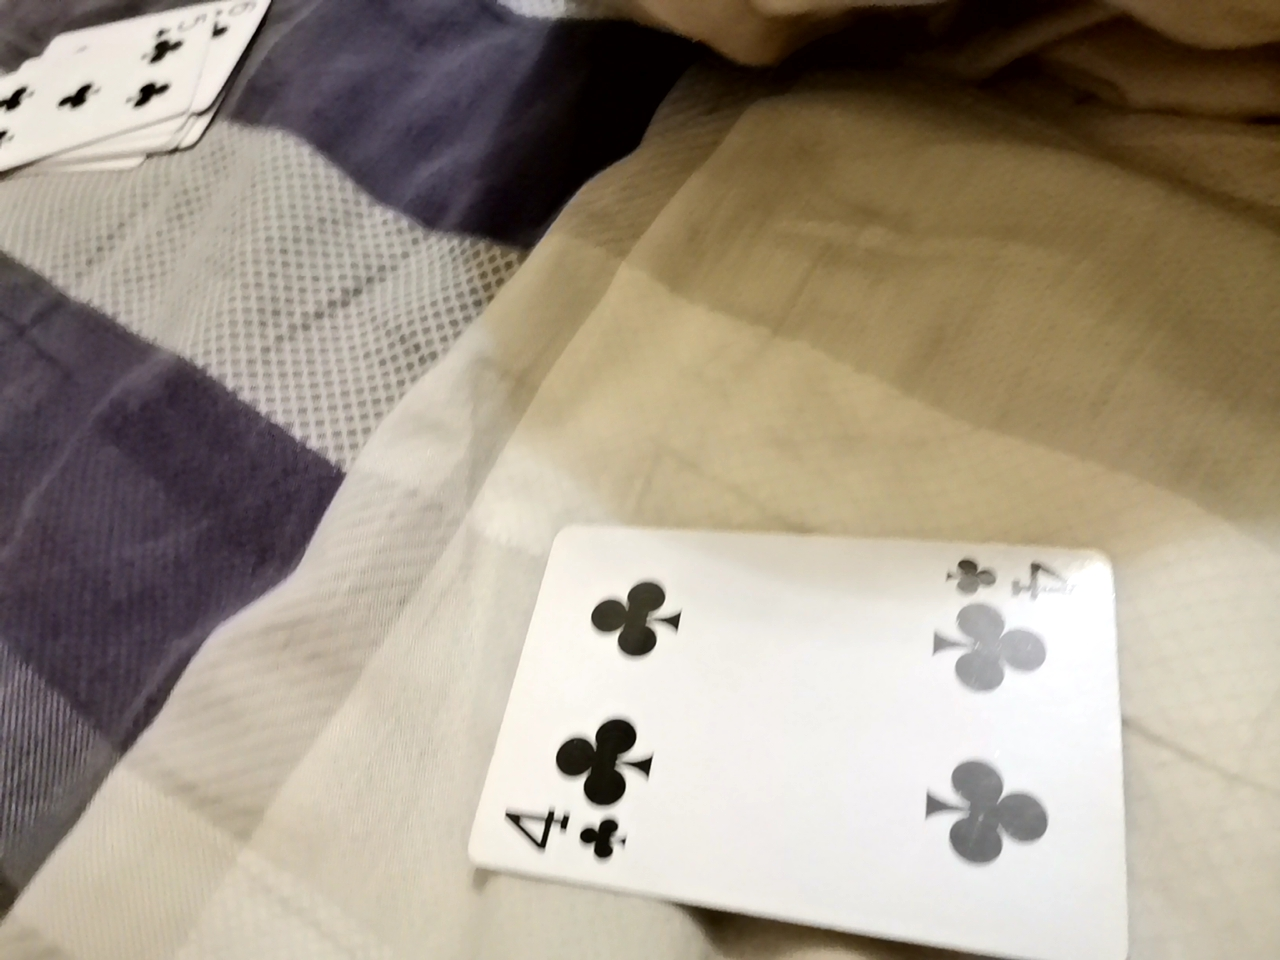mh 4: (486, 541, 1113, 951)
